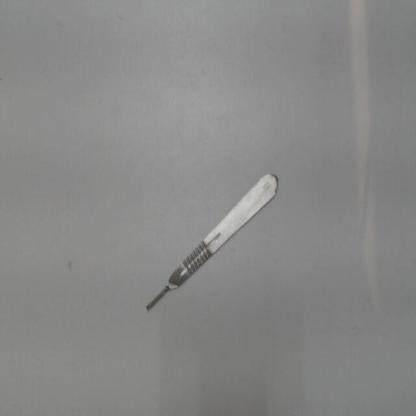No.3 BP Handle: (138, 158, 288, 324)
